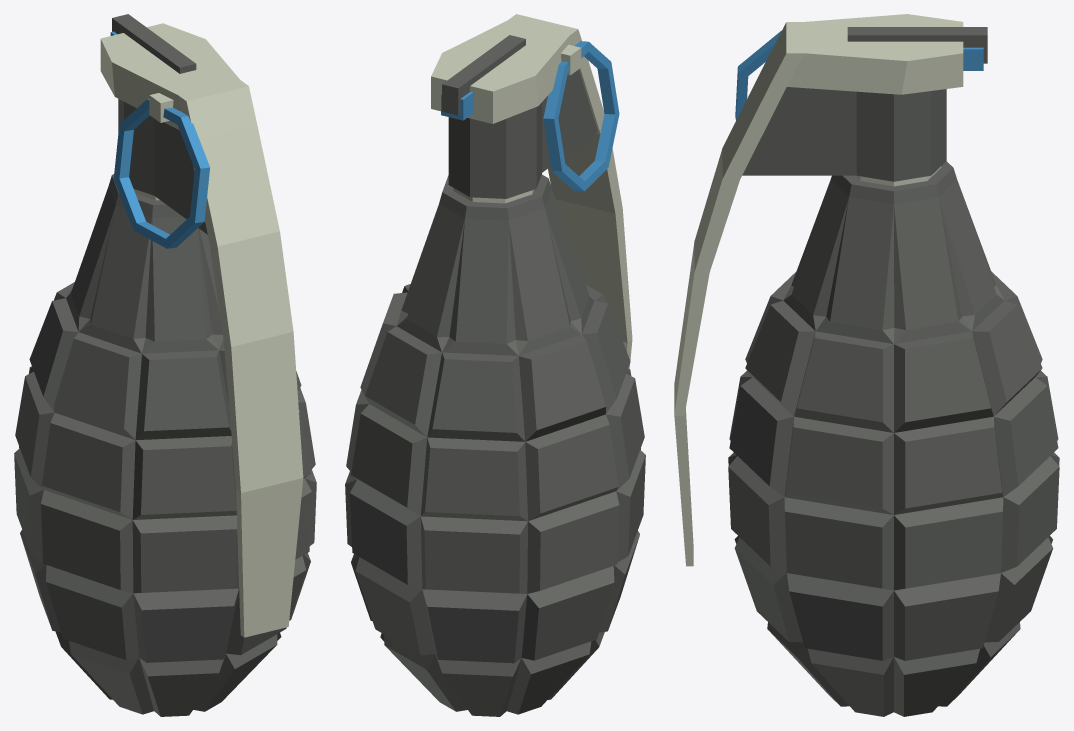
The model's file is Hand_Granade.fbx.
The picture shows the model from 3 angles, left to right: view 1: azimuth 30°, elevation 25°; view 2: azimuth 150°, elevation 25°; view 3: azimuth 270°, elevation 25°; orthographic projection. The views are drawn at different scales.
Visible parts, largest first — view 1: Circle; view 2: Circle; view 3: Circle.
Part boxes in pixels (<box>): Circle: <box>14,14,316,716</box>; Circle: <box>345,14,645,716</box>; Circle: <box>674,14,1059,716</box>.
Size of the model in its own units: 48.46 by 114 by 60.37.
